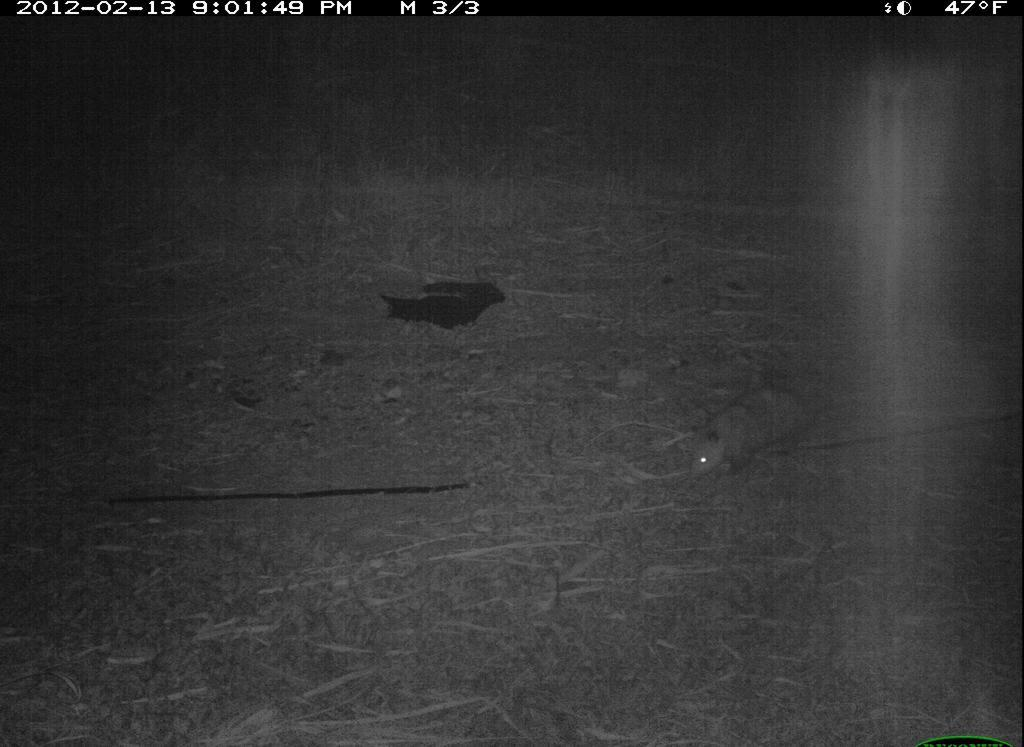opossum: (680, 380, 872, 496)
